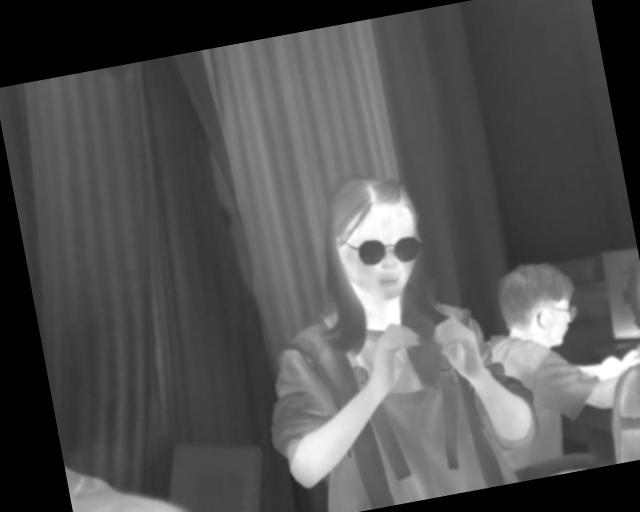face: (320, 167, 432, 308)
